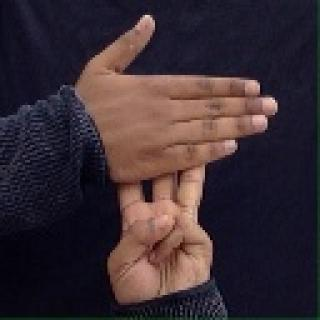M: (70, 17, 266, 305)
